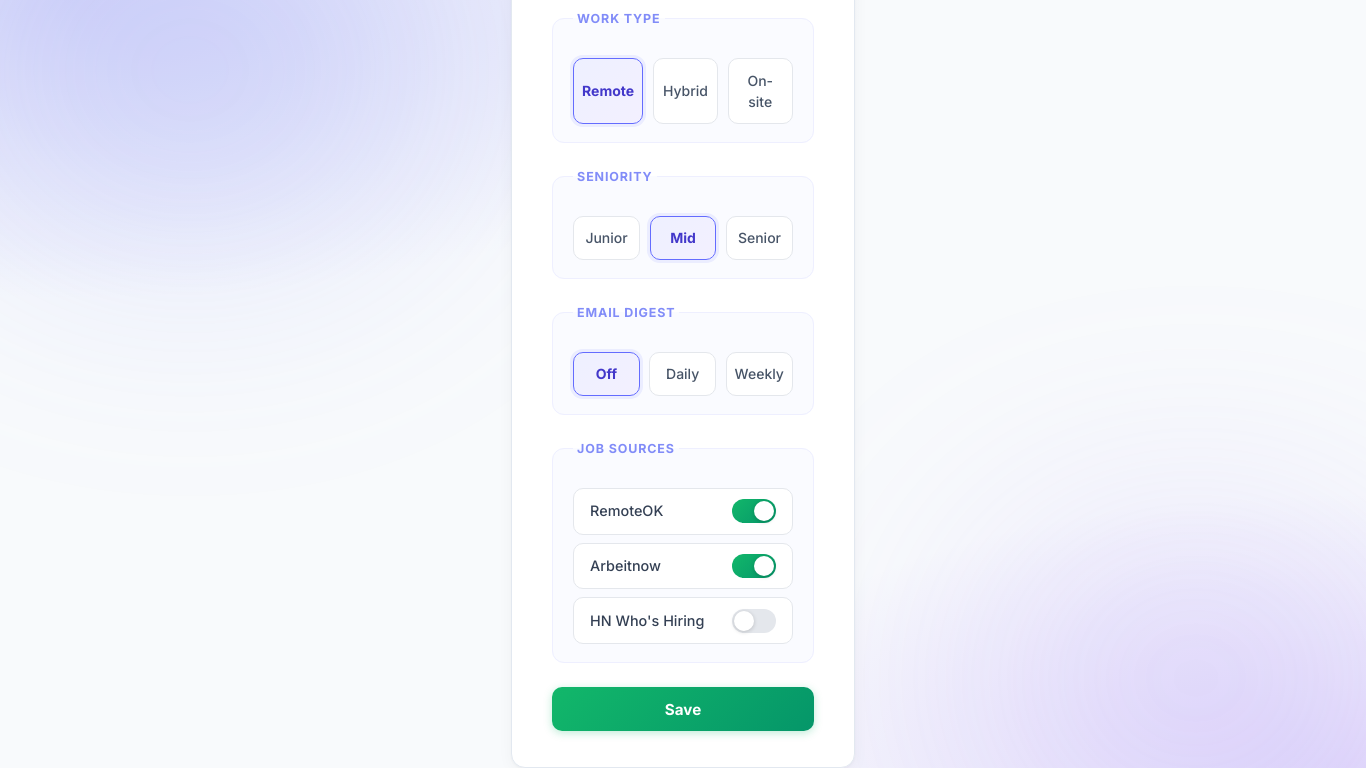
Test: PreferencesPage › afișează succes după salvare reușită
(page scrolled)
Step 1. Click the button "Save" → (683, 709), box x1=552 y1=687 x2=814 y2=731
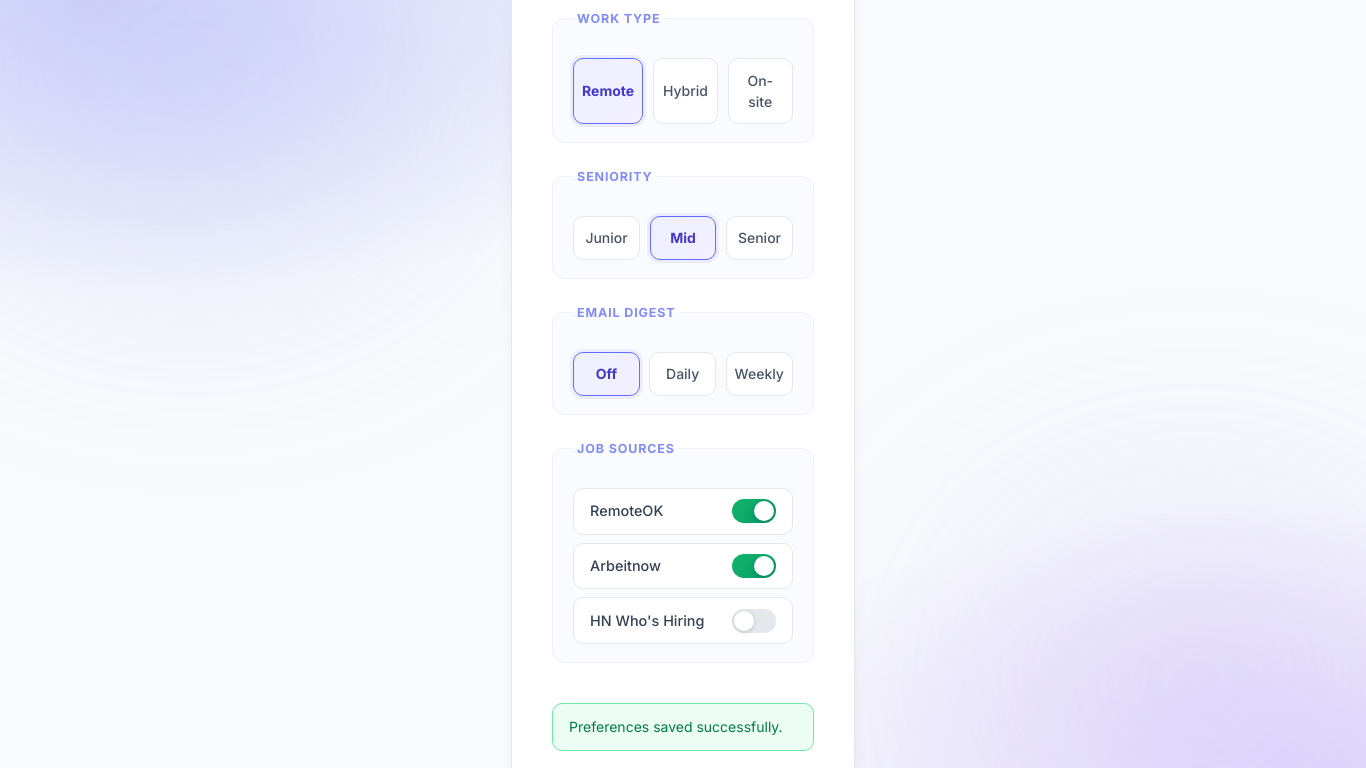
Result: the text "Preferences saved successfully." is shown at x1=552 y1=703 x2=814 y2=750
